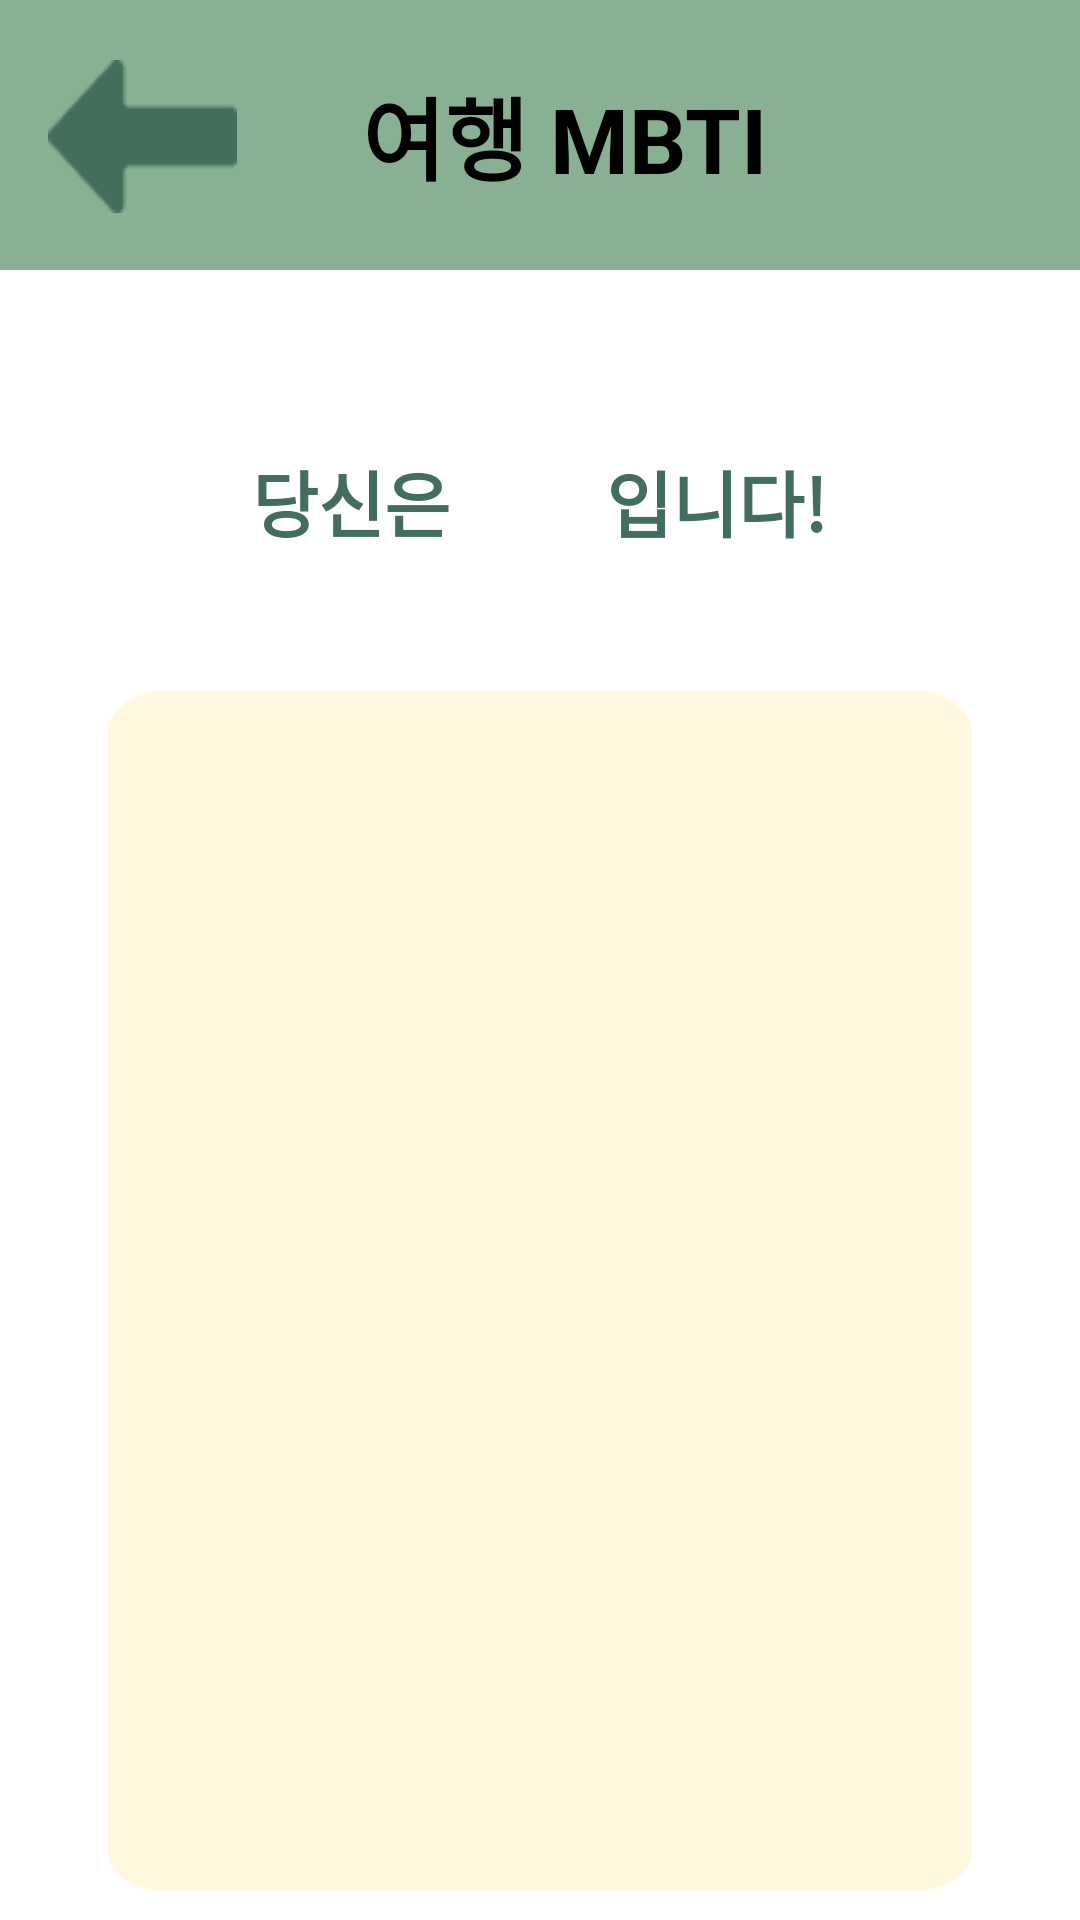

Locate icon controls on the screen. Image size 1080 x 1920, boxes as box(x1, y1, x2, y2).
back 버튼: box(48, 60, 237, 213)
